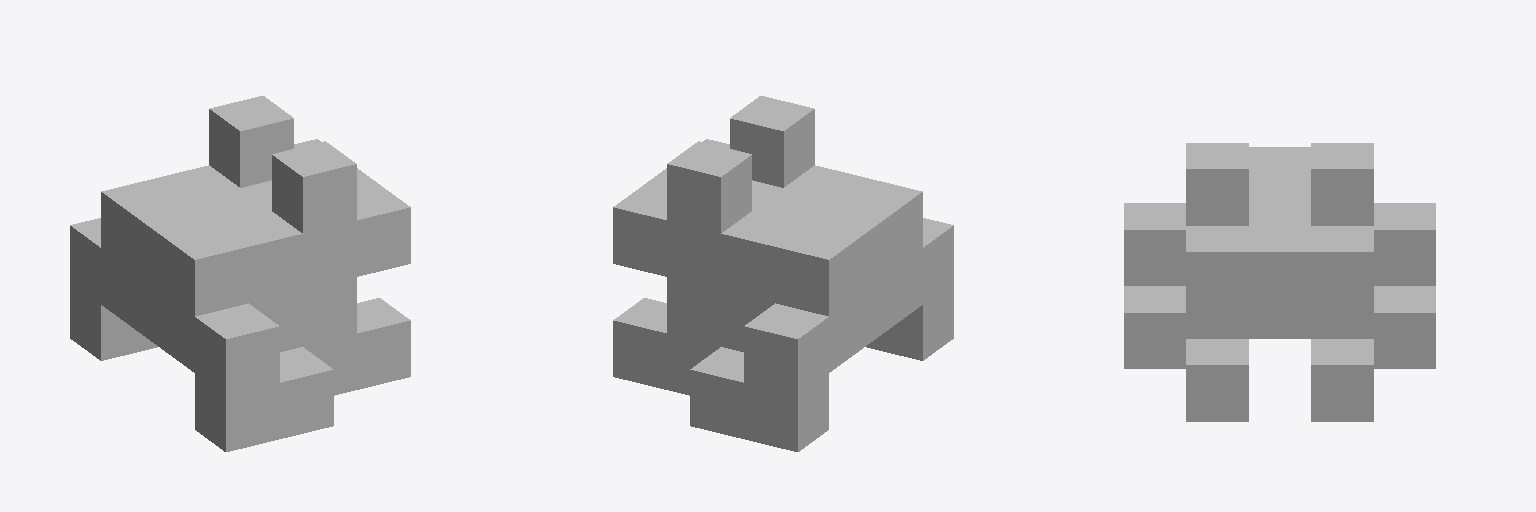
File: frog.obj
3 views of the same model, side by side, from view 1: azimuth 30°, elevation 25°; view 2: azimuth 150°, elevation 25°; view 3: azimuth 270°, elevation 25° (orthographic).
Size of the model in its own units: 4 by 4 by 5.